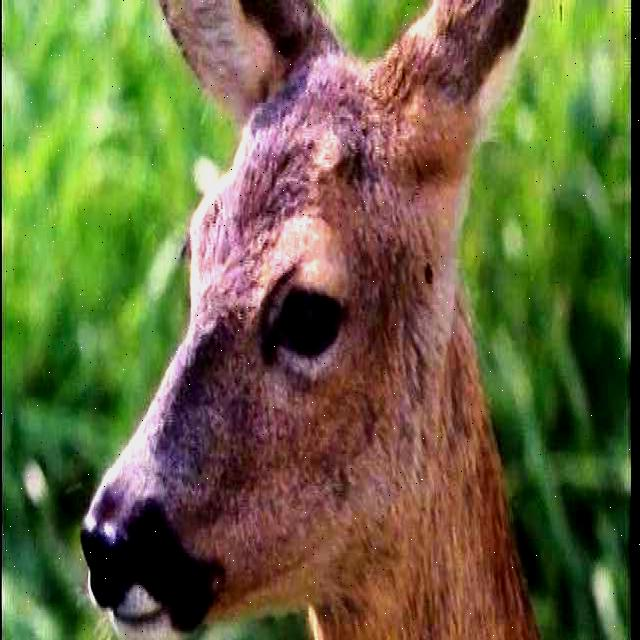deer: (90, 4, 530, 640)
